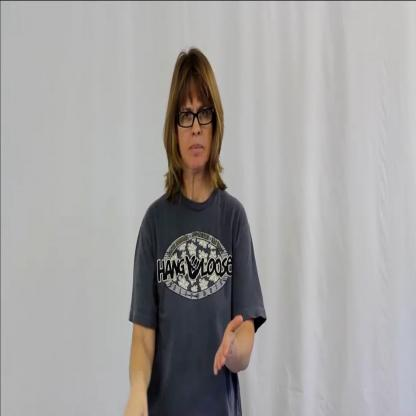Expensive: (124, 40, 259, 416)
